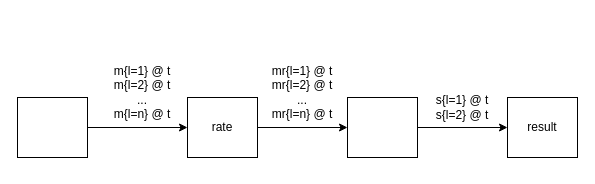
The diagram is 595 pixels wide and 184 high, and some of its shapes have lost their labels. The centre of each missing label's shape, as x and y in pixels:
"m[2m]" belongs at [52,127].
"sum" belongs at [382,127].
